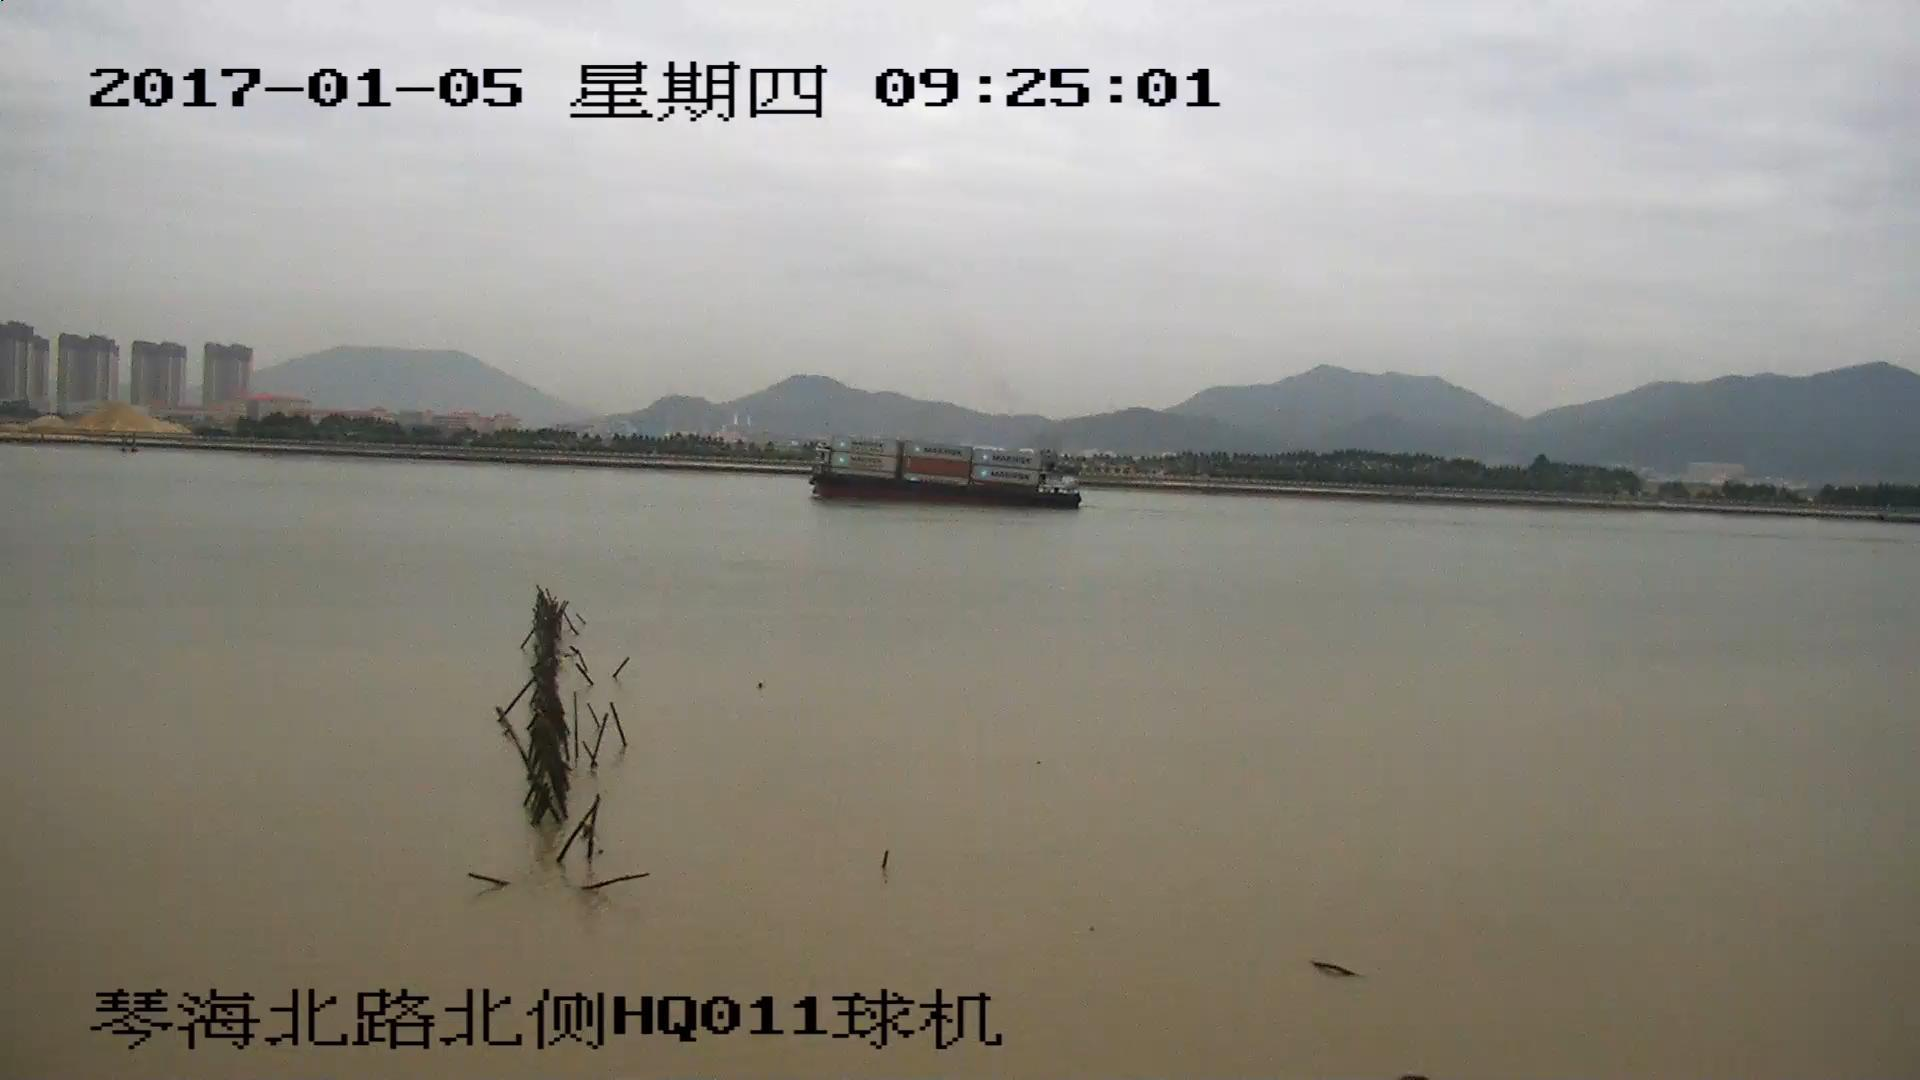Ship: (802, 436, 1083, 509)
